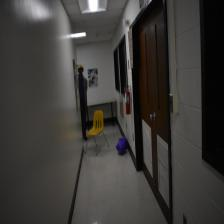cube: (116, 137, 126, 155), (122, 138, 127, 149)
